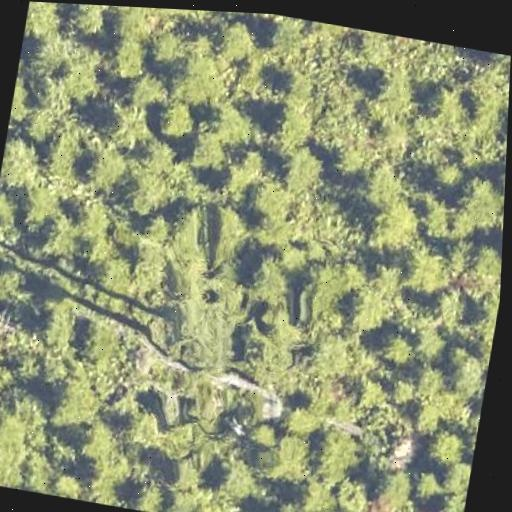tree-top: (165, 39, 238, 108), (294, 252, 363, 320), (363, 192, 431, 259), (45, 365, 109, 434), (118, 159, 185, 223), (240, 333, 302, 401), (445, 168, 506, 236), (366, 59, 427, 123), (304, 327, 365, 389), (240, 250, 300, 313), (97, 93, 160, 153), (261, 425, 322, 486), (355, 150, 407, 221), (310, 420, 370, 481), (399, 239, 458, 301), (51, 43, 109, 106), (71, 414, 132, 472), (341, 275, 399, 335), (204, 94, 264, 152), (275, 138, 332, 199), (163, 197, 218, 258), (33, 295, 90, 353), (0, 131, 51, 195), (214, 448, 268, 506), (37, 122, 89, 182), (422, 419, 477, 474), (438, 343, 491, 400), (419, 77, 474, 131), (243, 173, 298, 227), (105, 26, 158, 81), (77, 139, 131, 192), (211, 14, 263, 69), (150, 91, 203, 143), (101, 5, 167, 46), (224, 140, 274, 194), (426, 279, 476, 332), (183, 123, 233, 175), (119, 402, 167, 453), (373, 464, 421, 512), (272, 102, 320, 150), (21, 184, 67, 233), (17, 445, 61, 496), (23, 1, 71, 46), (376, 326, 423, 371), (129, 67, 176, 112), (331, 469, 380, 512), (75, 318, 125, 360), (282, 396, 327, 441), (409, 318, 452, 365), (61, 3, 114, 41), (9, 64, 39, 130), (0, 407, 36, 461), (293, 471, 340, 512), (126, 473, 173, 512), (86, 473, 135, 509), (409, 462, 446, 502), (154, 8, 213, 26), (432, 483, 468, 512), (0, 185, 23, 228), (267, 496, 314, 512), (494, 156, 506, 217), (298, 500, 353, 512), (0, 294, 10, 347), (346, 503, 403, 512), (0, 371, 8, 422)
